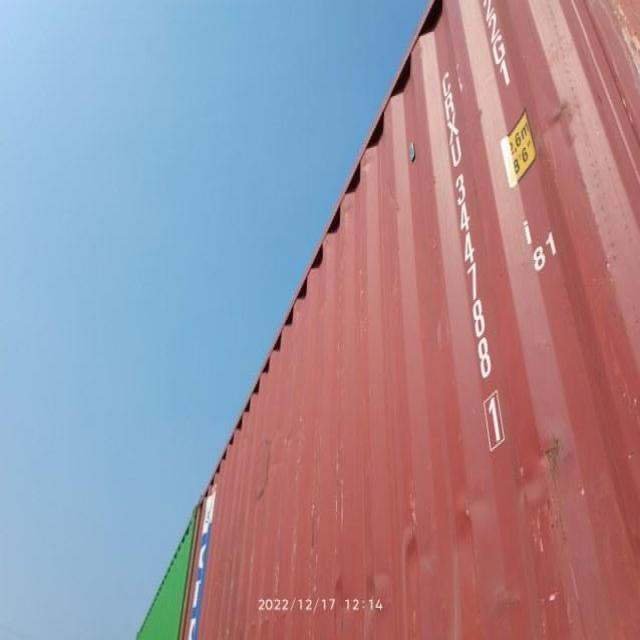ISO: (469, 0, 544, 80)
container_number: (426, 52, 516, 456)
